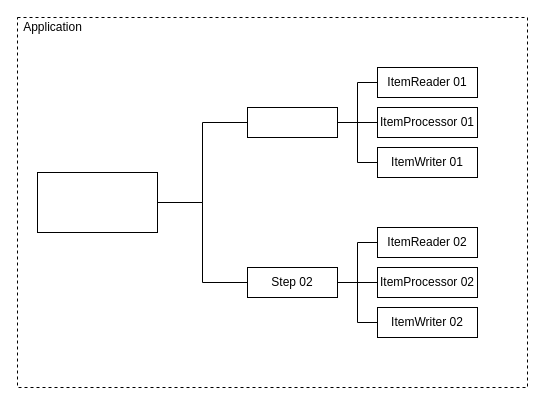
This 545x405 diagram has some shape labels left out. Here are the shapes that lost their labels. From the top down, the box of each, then its label:
(246, 106, 338, 138): Step 01
(36, 172, 158, 232): Job 01
